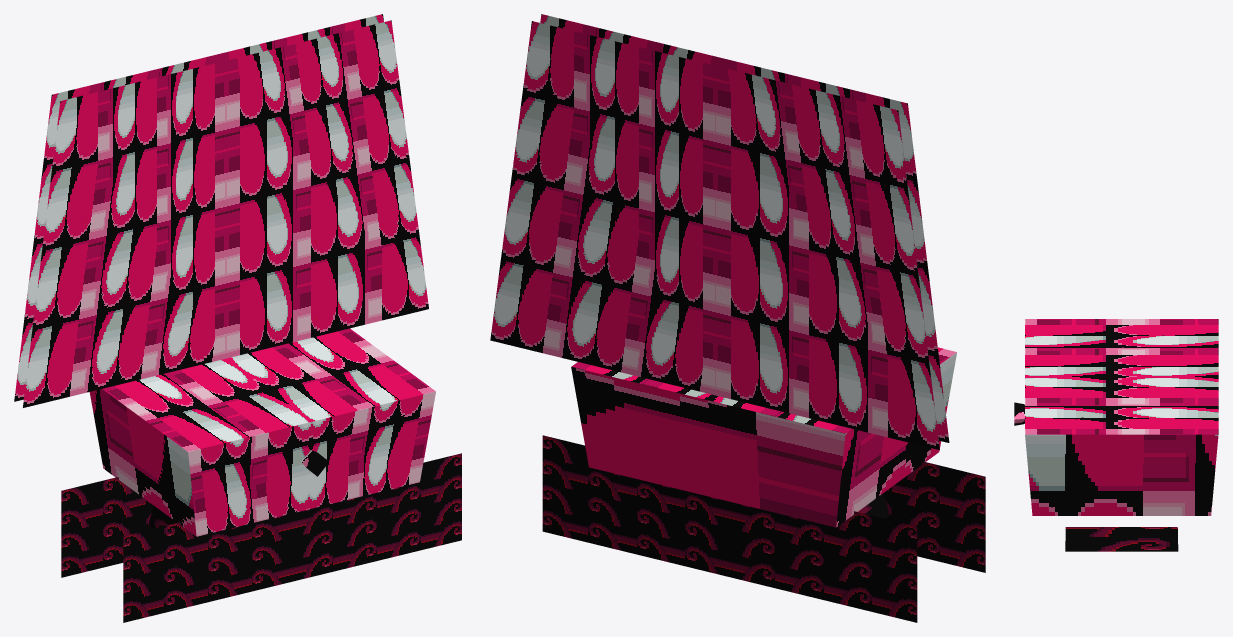
The model's file is 3819kg3_ser00.gltf.
3 renders of one model, left to right at view 1: azimuth 30°, elevation 25°; view 2: azimuth 150°, elevation 25°; view 3: azimuth 270°, elevation 25°, orthographic. The views are drawn at different scales.
Parts seen in each view (by area): view 1: 3819kg3_ser00; view 2: 3819kg3_ser00; view 3: 3819kg3_ser00.
Part boxes in pixels (bbox=[...]): 3819kg3_ser00: bbox=[14, 14, 461, 622]; 3819kg3_ser00: bbox=[490, 14, 985, 622]; 3819kg3_ser00: bbox=[1014, 319, 1218, 551].
Size of the model in its own units: 1.07 by 1.19 by 0.4868.
3 materials, 3 textured.
